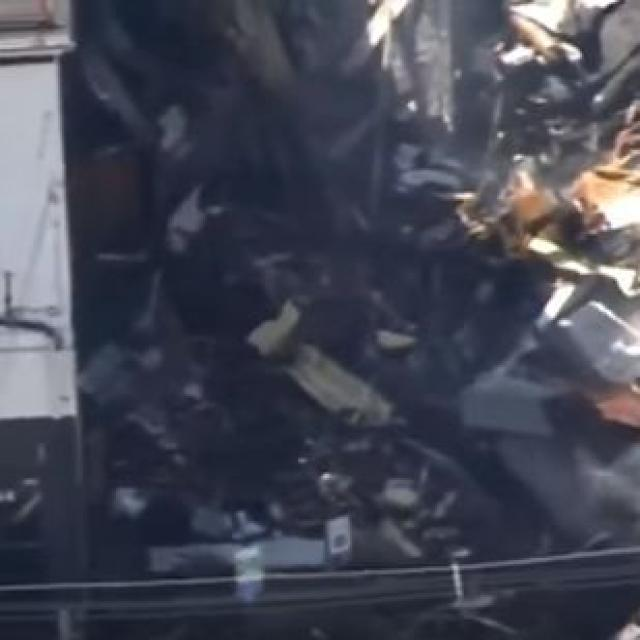collapsed_building: (72, 4, 638, 470)
